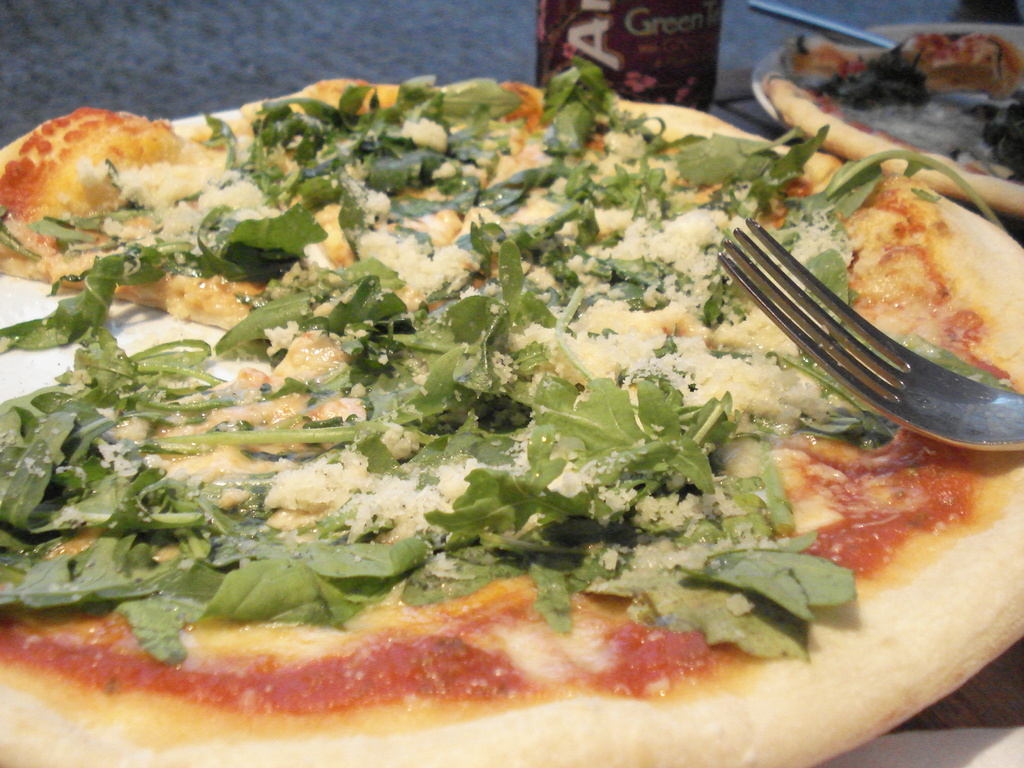Pizza: (0, 30, 1024, 758), (764, 18, 1022, 209)
